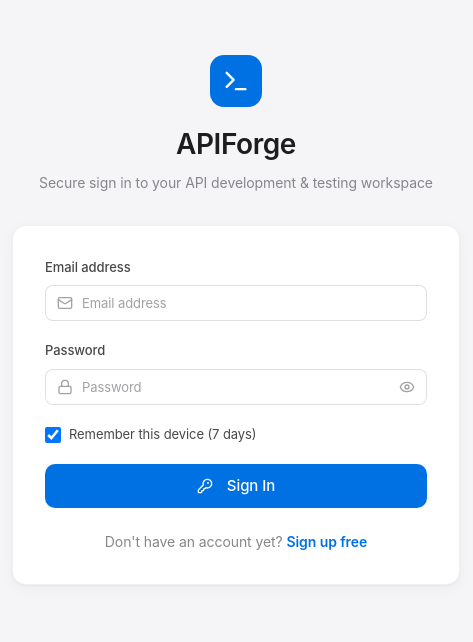
Test: Authentication and Account Creation Pages › LoginPage › requires email and password to submit
Click the button "Sign In" at x=236, y=486, box [45,464,427,508]
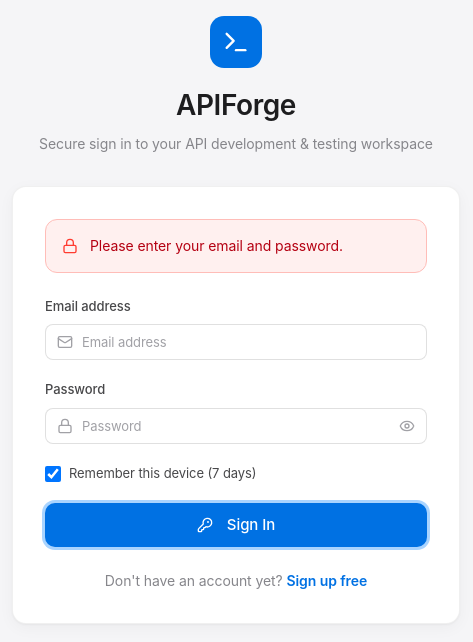
Result: the message shows "Please enter your email and password" at [90,237,343,254]
